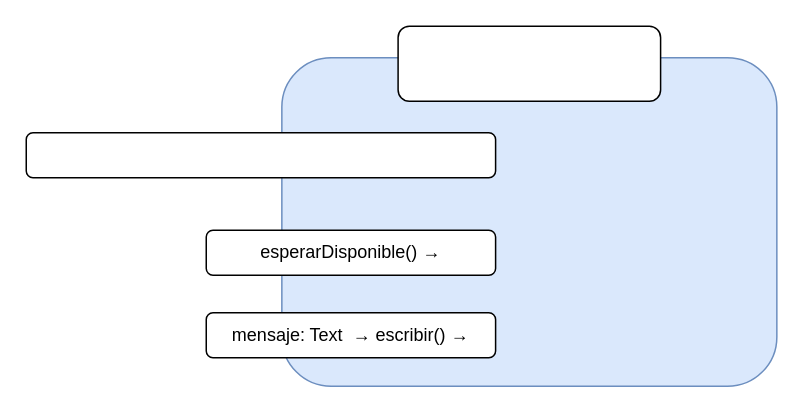
The diagram is 804 pixels wide and 413 high, and some of its shapes have lost their labels. The centre of each missing label's shape, as x and y in pixels:
baudios: N → PuertoSerie() →: point 260,154
PuertoSerie: point 529,63
